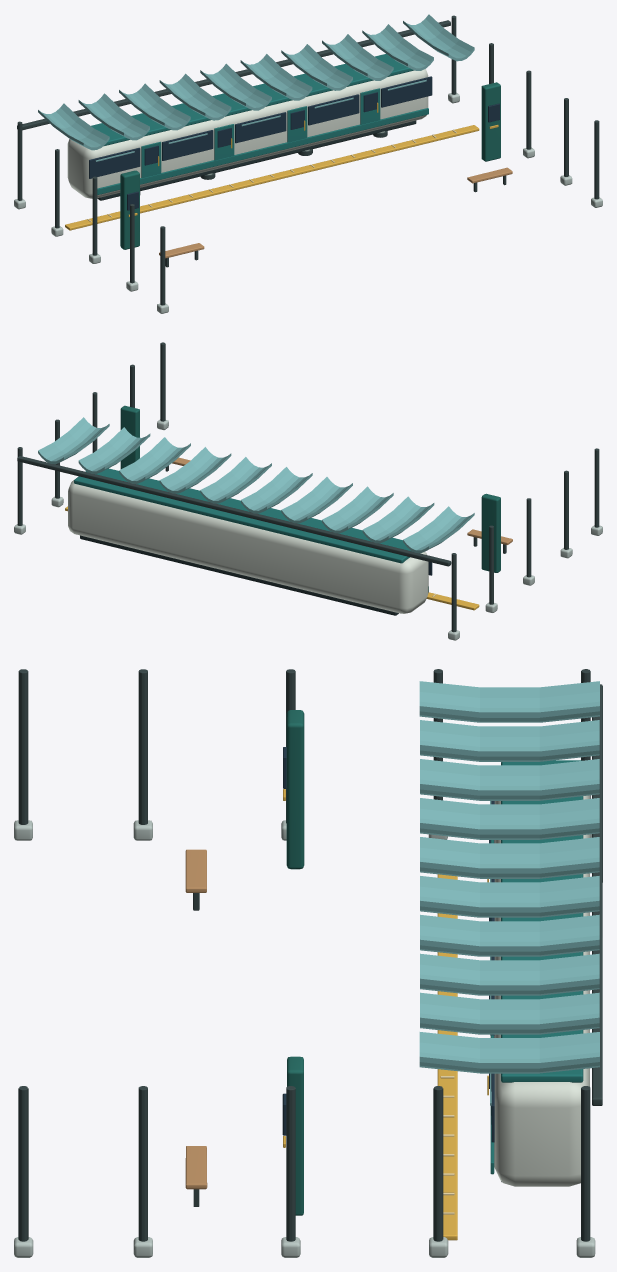
Rendered from transit-dressing.glb.
3 renders of one model, top to bottom at view 1: azimuth 30°, elevation 25°; view 2: azimuth 150°, elevation 25°; view 3: azimuth 270°, elevation 25°, orthographic. The views are drawn at different scales.
Visible parts, largest first — view 1: venue-transit | Transit | blue-green glass, Train | continuous body, venue-transit | Transit | deep teal carriage, venue-transit | Transit | window glass, venue-transit | Seawall | graphite metal, venue-transit | Transit | safety yellow, venue-transit | Seawall | park sign, Train | lower skirt, venue-transit | Transit | station stone, venue-transit | Seawall | sunlit timber; view 2: Train | continuous body, venue-transit | Transit | blue-green glass, venue-transit | Seawall | graphite metal, venue-transit | Transit | deep teal carriage, venue-transit | Seawall | park sign, Train | lower skirt, venue-transit | Transit | station stone; view 3: venue-transit | Transit | blue-green glass, venue-transit | Seawall | graphite metal, Train | continuous body, venue-transit | Seawall | park sign, venue-transit | Transit | deep teal carriage, venue-transit | Transit | safety yellow, venue-transit | Transit | station stone, venue-transit | Seawall | sunlit timber, venue-transit | Transit | window glass.
Part boxes in pixels (x1=…): venue-transit | Transit | blue-green glass: x1=38, y1=14, x2=474, y2=161; Train | continuous body: x1=67, y1=69, x2=428, y2=198; venue-transit | Transit | deep teal carriage: x1=91, y1=54, x2=428, y2=194; venue-transit | Transit | window glass: x1=89, y1=76, x2=499, y2=210; venue-transit | Seawall | graphite metal: x1=17, y1=15, x2=599, y2=305; venue-transit | Transit | safety yellow: x1=65, y1=102, x2=498, y2=230; venue-transit | Seawall | park sign: x1=120, y1=82, x2=500, y2=249; Train | lower skirt: x1=97, y1=120, x2=416, y2=200; venue-transit | Transit | station stone: x1=14, y1=92, x2=602, y2=313; venue-transit | Seawall | sunlit timber: x1=159, y1=167, x2=512, y2=258; Train | continuous body: x1=68, y1=480, x2=428, y2=613; venue-transit | Transit | blue-green glass: x1=38, y1=417, x2=474, y2=553; venue-transit | Seawall | graphite metal: x1=17, y1=342, x2=599, y2=632; venue-transit | Transit | deep teal carriage: x1=74, y1=468, x2=428, y2=591; venue-transit | Seawall | park sign: x1=120, y1=405, x2=500, y2=572; Train | lower skirt: x1=80, y1=535, x2=398, y2=615; venue-transit | Transit | station stone: x1=14, y1=419, x2=602, y2=640; venue-transit | Transit | blue-green glass: x1=419, y1=681, x2=599, y2=1105; venue-transit | Seawall | graphite metal: x1=18, y1=669, x2=602, y2=1241; Train | continuous body: x1=494, y1=795, x2=589, y2=1186; venue-transit | Seawall | park sign: x1=286, y1=710, x2=304, y2=1215; venue-transit | Transit | deep teal carriage: x1=490, y1=760, x2=583, y2=1174; venue-transit | Transit | safety yellow: x1=283, y1=789, x2=488, y2=1240; venue-transit | Transit | station stone: x1=14, y1=820, x2=595, y2=1257; venue-transit | Seawall | sunlit timber: x1=185, y1=849, x2=207, y2=1189; venue-transit | Transit | window glass: x1=282, y1=747, x2=494, y2=1142.
Size of the model in its own units: 21.82 by 4.26 by 12.78.
